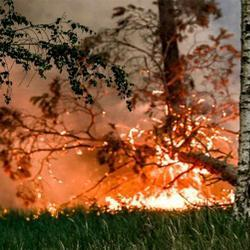fire: (103, 181, 205, 212), (162, 156, 212, 176)
